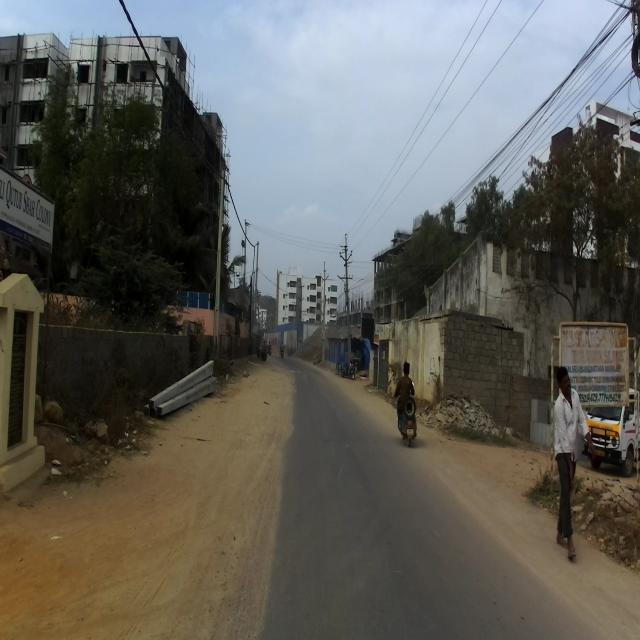motorcycle ahead at: (392, 393, 423, 451)
person ahead at: (548, 362, 594, 563)
stones ahead at: (434, 400, 498, 442)
